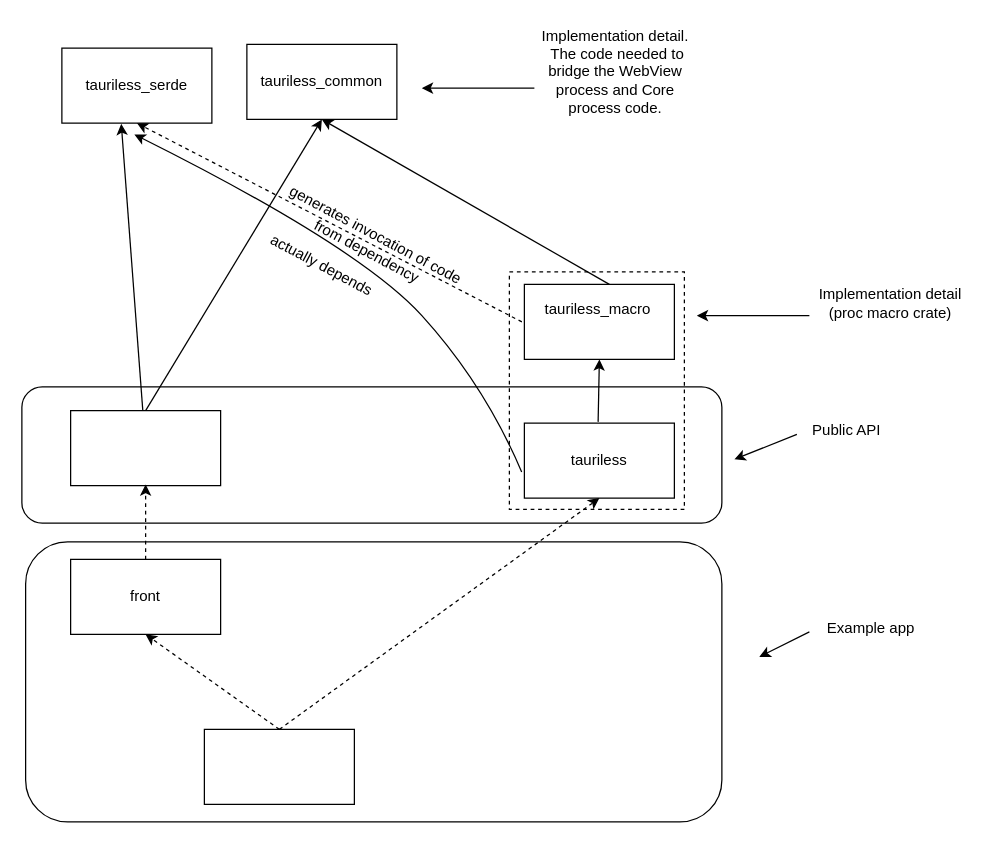
Image size: 994x844. Some labels were removed from this diagram. The centre of each missing label's shape, as x and y in pixels:
tauriless-js: the point at 145,447
wry_app: the point at 278,766
